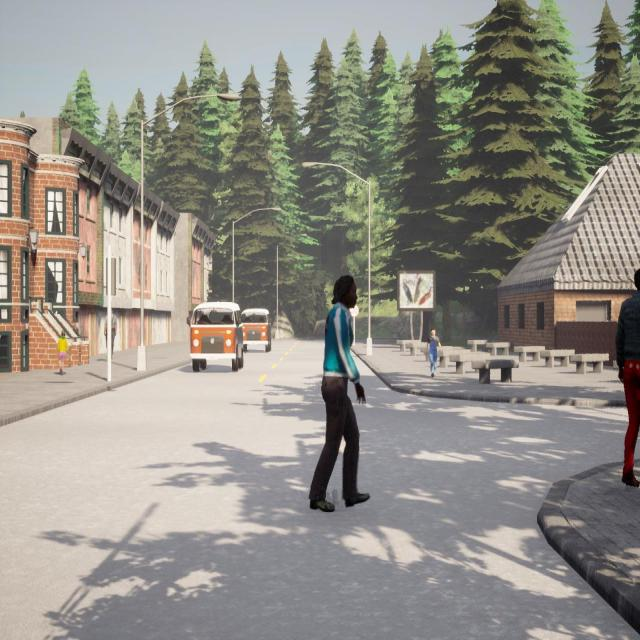Pedestrian: (309, 276, 369, 512), (613, 264, 640, 488), (426, 326, 442, 378), (104, 310, 117, 360), (56, 330, 69, 376)
Traffic_Signs: (349, 304, 359, 318)
Vehicle: (186, 302, 244, 371), (241, 308, 272, 353)
traffic_light: (106, 258, 115, 296)
